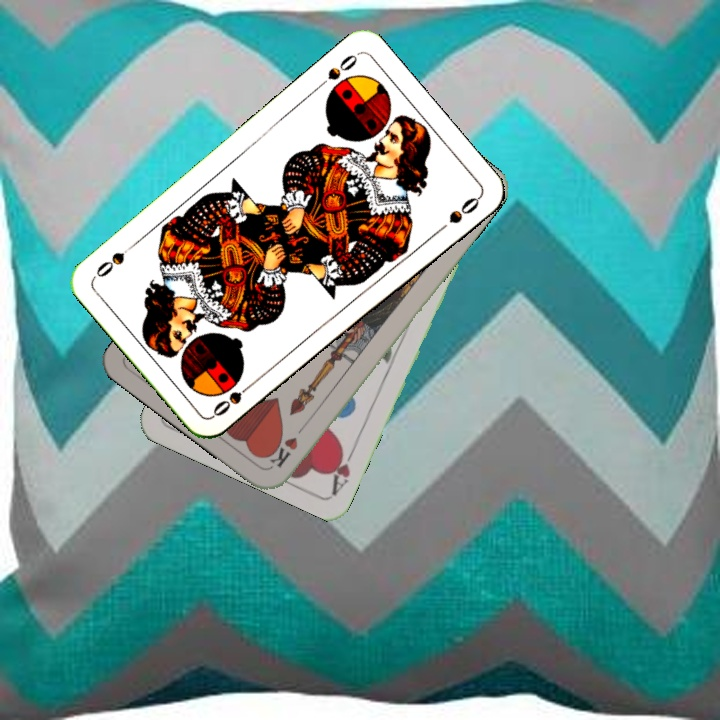HA: (326, 440, 359, 497)
HK: (265, 418, 310, 470)
SO: (208, 377, 259, 420), (312, 49, 361, 92)
